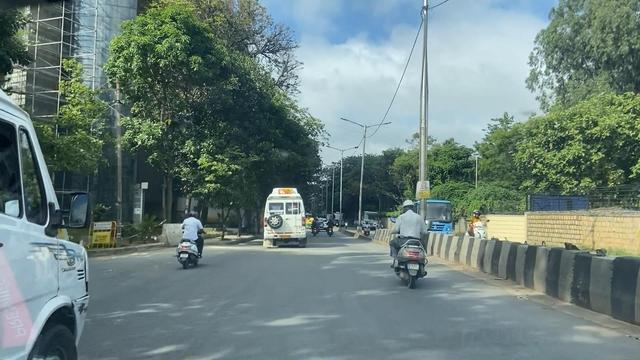HMV: (4, 101, 90, 360), (262, 183, 310, 249)
LMV: (395, 204, 431, 283), (182, 211, 209, 275)
